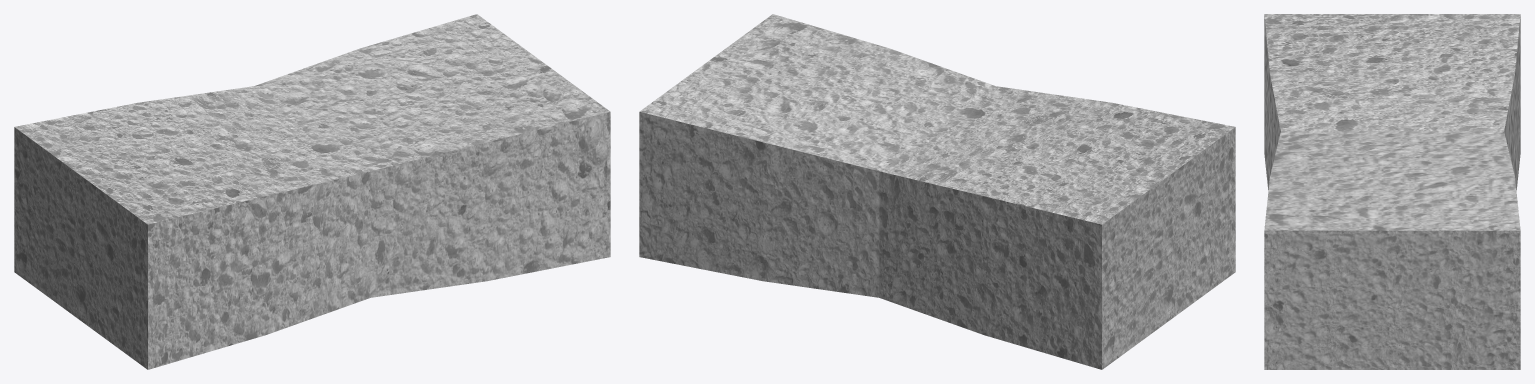
File: sponge.fbx
3 views of the same model, side by side, from view 1: azimuth 30°, elevation 25°; view 2: azimuth 150°, elevation 25°; view 3: azimuth 270°, elevation 25° (orthographic). The views are drawn at different scales.
Visible parts, largest first — view 1: Sponge; view 2: Sponge; view 3: Sponge.
Part boxes in pixels (x1,y1,x2,y2): Sponge: [14, 14, 610, 369]; Sponge: [639, 14, 1235, 369]; Sponge: [1264, 14, 1520, 369].
Bounding box in the file's own units: 10 × 3 × 5.
